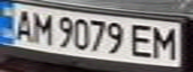0: (69, 16, 90, 52)
7: (87, 17, 106, 53)
9: (103, 19, 130, 56), (51, 14, 75, 48)
A: (6, 7, 36, 43)
E: (127, 21, 160, 60)
M: (148, 25, 184, 61), (27, 10, 57, 46)
